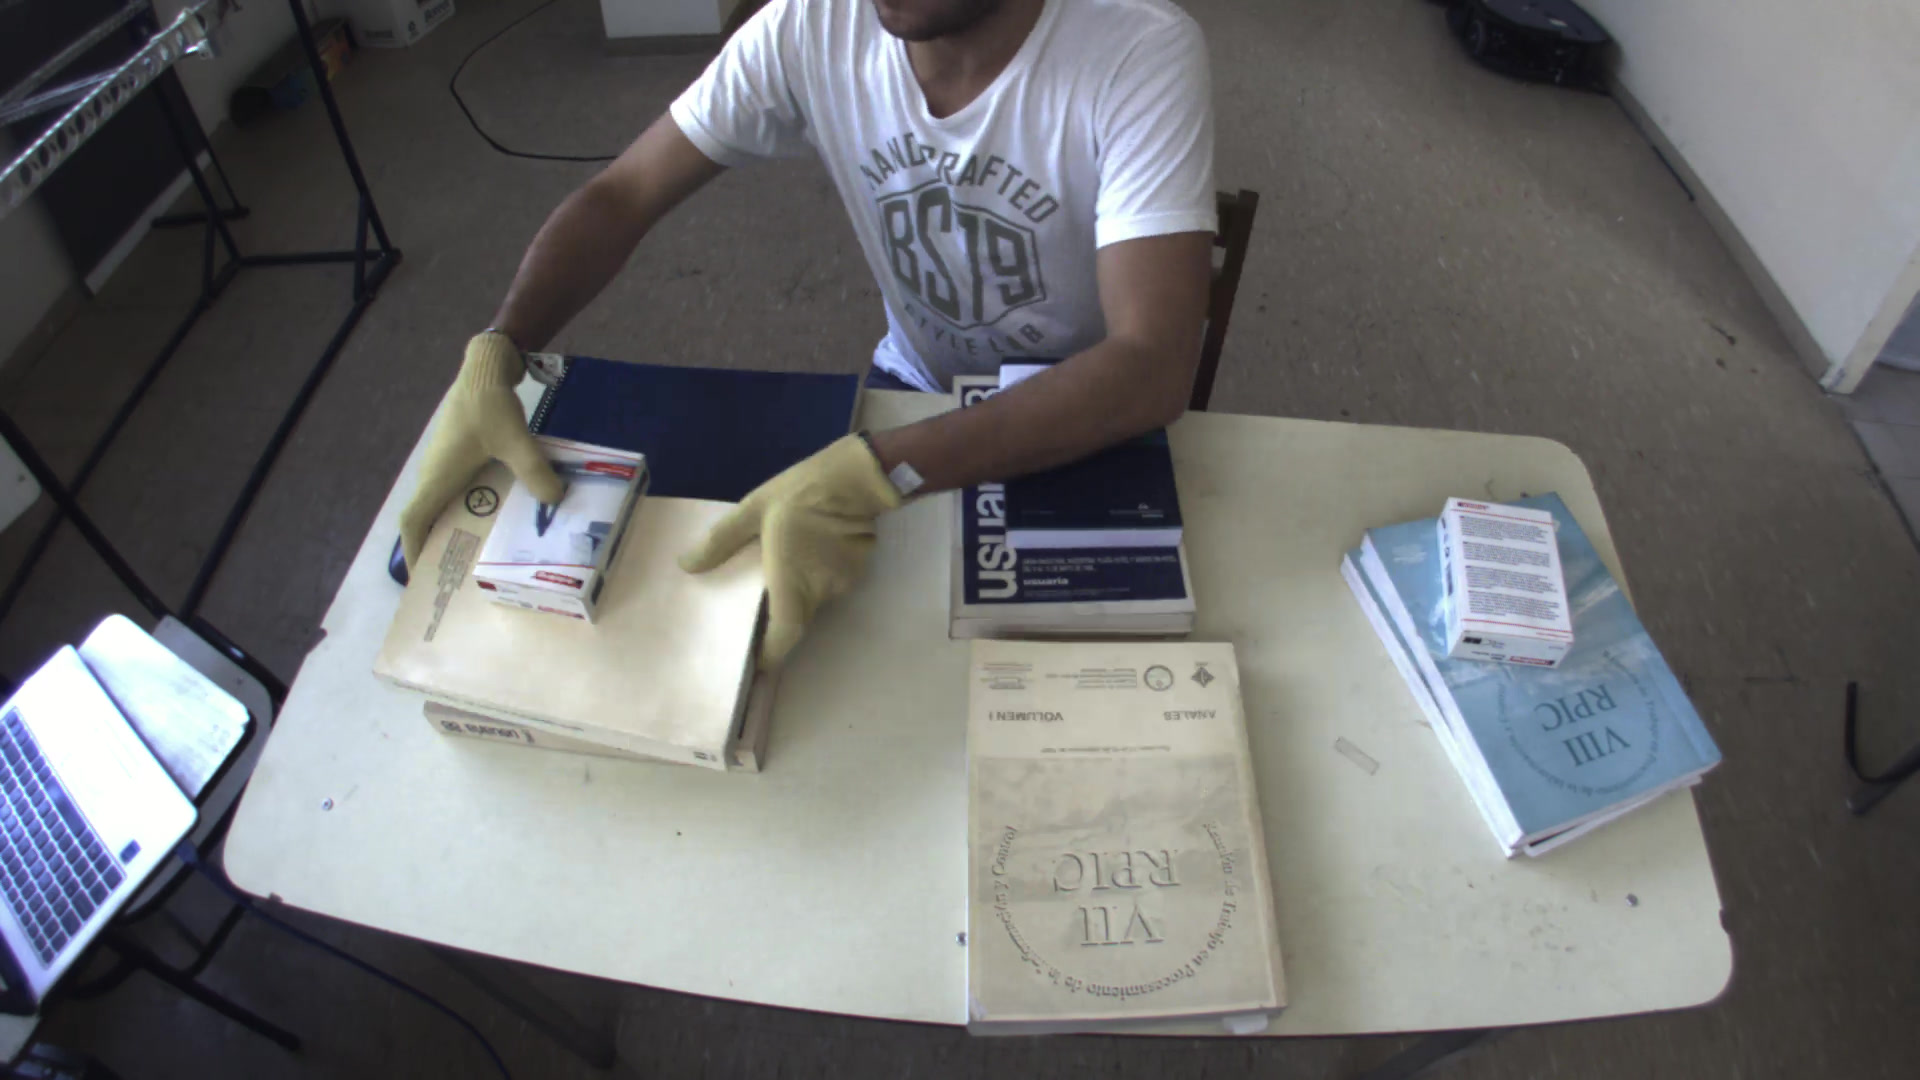hand: (673, 433, 909, 647), (378, 334, 568, 560)
